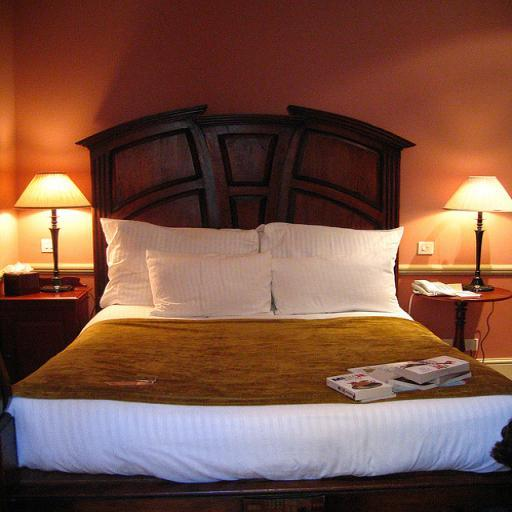bed: (46, 88, 512, 502)
